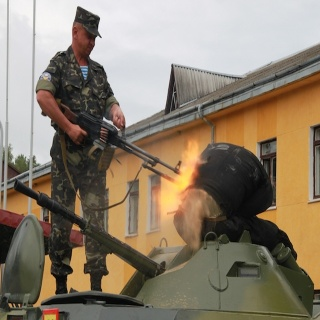rifle: (36, 93, 185, 183)
